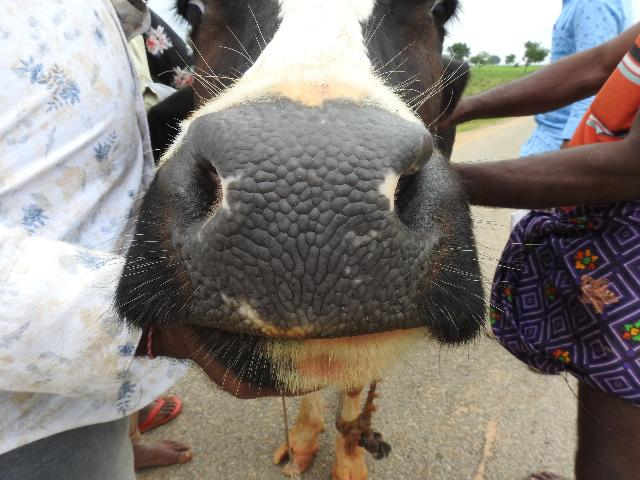Muzzle: (211, 114, 405, 326)
